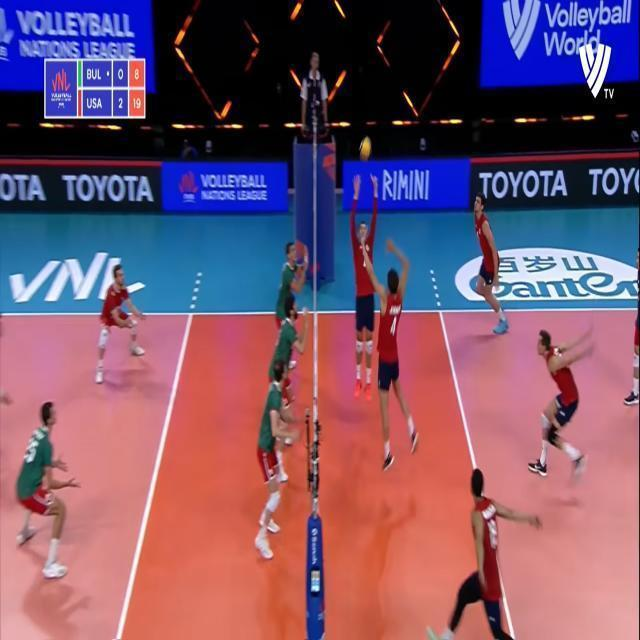volleyball: (360, 138, 372, 159)
